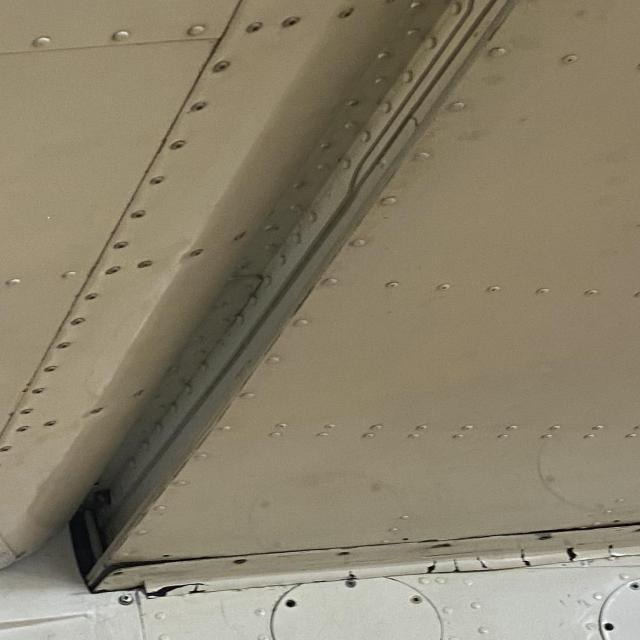Missing-head: (602, 620, 617, 635), (284, 598, 296, 608)
